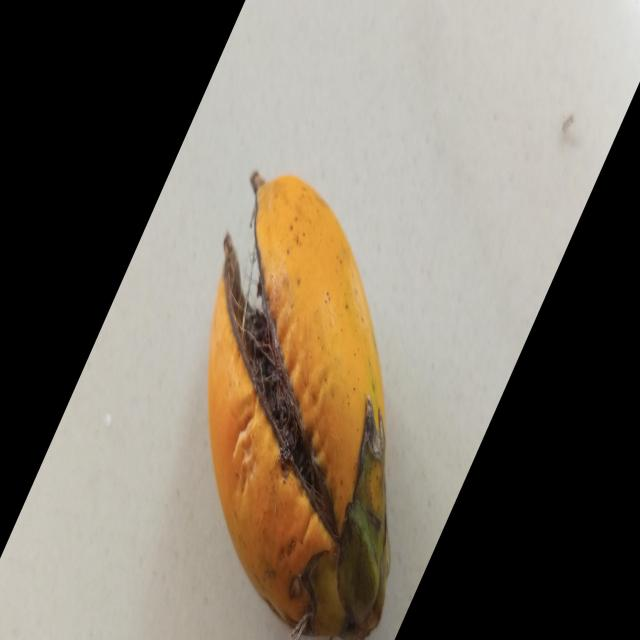damaged: (208, 176, 389, 640)
